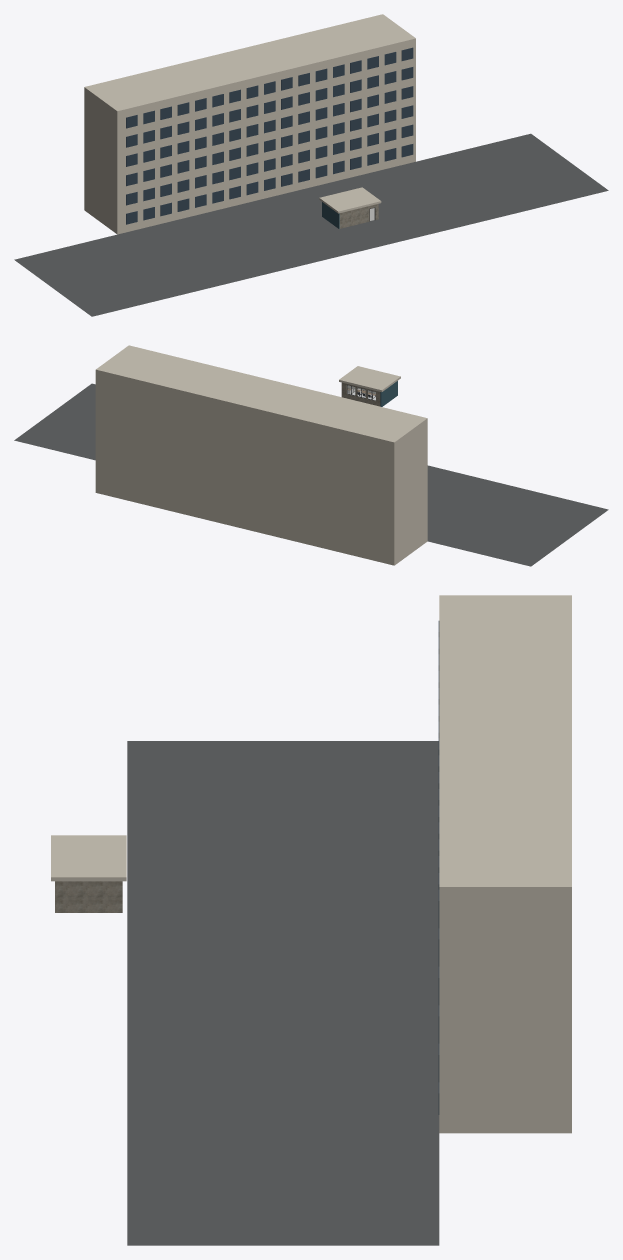
Rendered from Environment.fbx.
The picture shows the model from 3 angles, top to bottom: view 1: azimuth 30°, elevation 25°; view 2: azimuth 150°, elevation 25°; view 3: azimuth 270°, elevation 25°; orthographic projection. The views are drawn at different scales.
Visible parts, largest first — view 1: Street_Building, Street_Ground, Street_BuildingWindows, Street_Roof, Wall_S; view 2: Street_Building, Street_Ground, Street_Roof, Wall_N; view 3: Street_Ground, Street_Building, Street_Roof, Wall_E, Street_BuildingWindows.
Part boxes in pixels (bbox=[...]): Street_Building: bbox=[84, 14, 415, 234]; Street_Ground: bbox=[14, 133, 608, 316]; Street_BuildingWindows: bbox=[126, 47, 413, 224]; Street_Roof: bbox=[319, 187, 381, 213]; Wall_S: bbox=[339, 204, 377, 228]; Street_Building: bbox=[95, 345, 427, 565]; Street_Ground: bbox=[14, 383, 608, 566]; Street_Roof: bbox=[339, 366, 400, 392]; Wall_N: bbox=[342, 382, 380, 406]; Street_Ground: bbox=[127, 741, 439, 1245]; Street_Building: bbox=[439, 595, 571, 1133]; Street_Roof: bbox=[51, 835, 126, 881]; Wall_E: bbox=[55, 881, 122, 912]; Street_BuildingWindows: bbox=[438, 621, 439, 1114].
Bounding box in the file's own units: 90 × 20.5 × 39.25.
